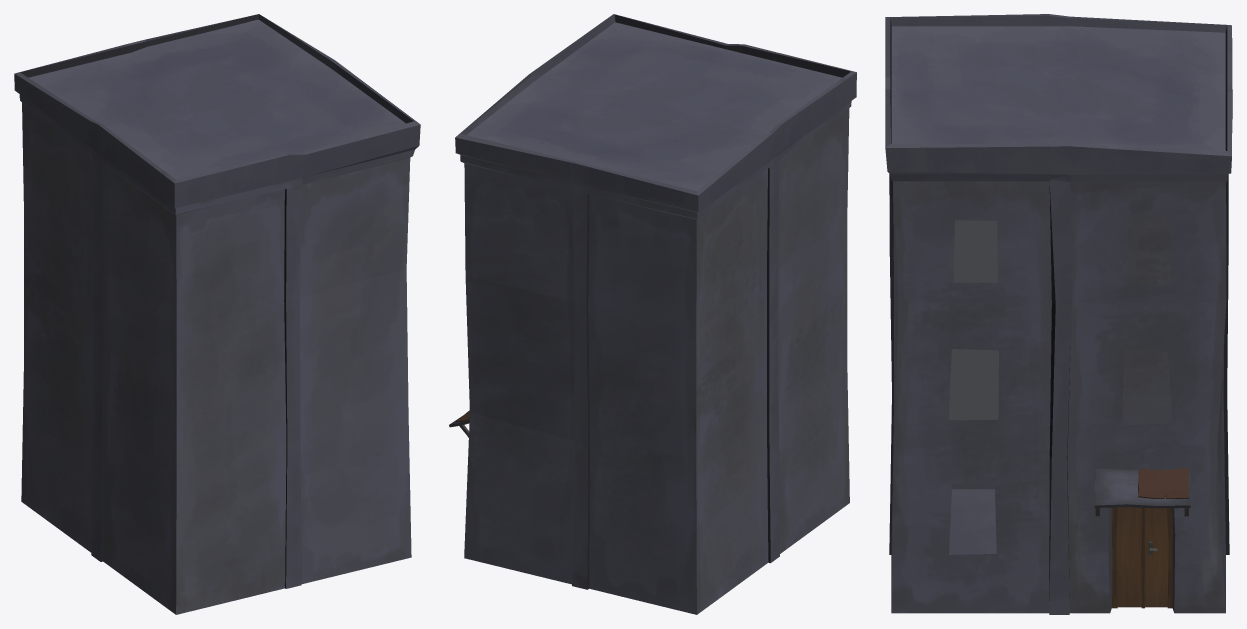
The model's file is house-base-1.fbx.
The picture shows the model from 3 angles, left to right: view 1: azimuth 30°, elevation 25°; view 2: azimuth 150°, elevation 25°; view 3: azimuth 270°, elevation 25°; orthographic projection. The views are drawn at different scales.
Visible parts, largest first — view 1: Cube; view 2: Cube; view 3: Cube.
Part boxes in pixels (bbox=[...]): Cube: bbox=[14, 14, 420, 614]; Cube: bbox=[449, 14, 856, 614]; Cube: bbox=[885, 14, 1232, 614].
Bounding box in the file's own units: 237 × 365 × 243.
